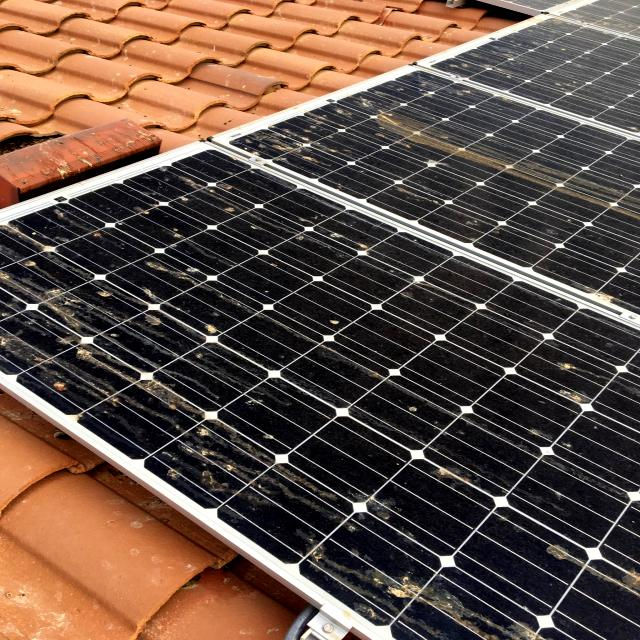bird: (148, 419, 236, 498), (362, 556, 440, 624), (540, 359, 611, 416), (28, 334, 92, 396), (233, 120, 300, 168), (192, 294, 240, 338), (544, 517, 570, 587)
